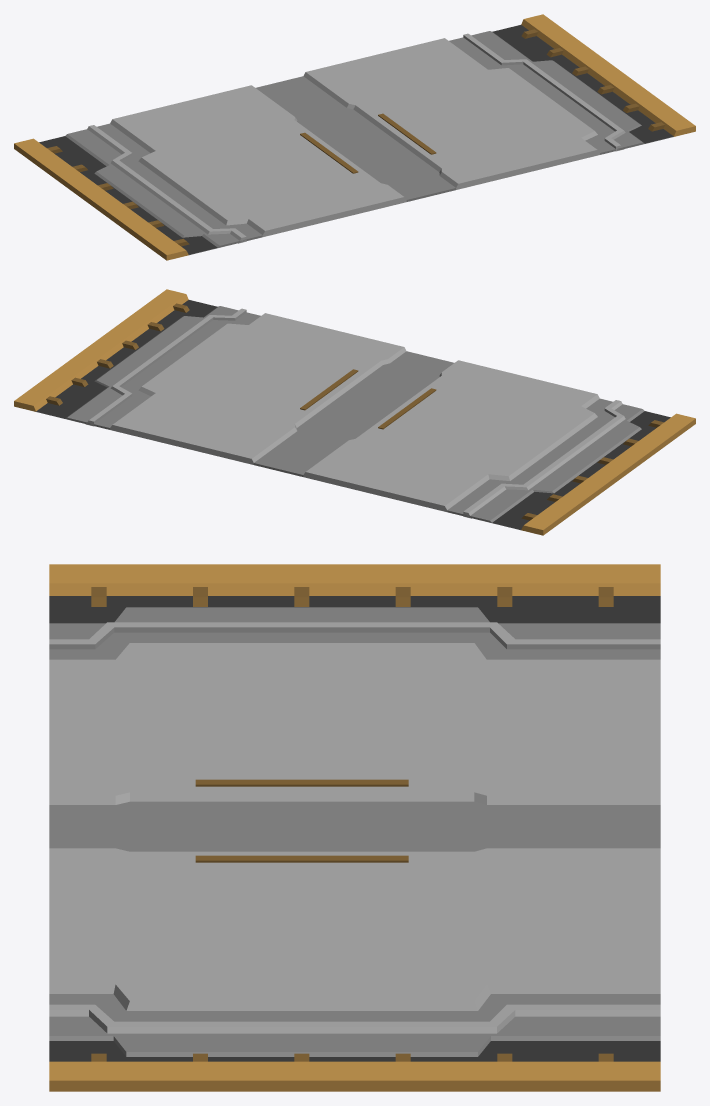
The model's file is FloorTile_Double_Hallway.glb.
3 renders of one model, top to bottom at view 1: azimuth 30°, elevation 25°; view 2: azimuth 150°, elevation 25°; view 3: azimuth 270°, elevation 25°, orthographic. The views are drawn at different scales.
Parts seen in each view (by area): view 1: FloorTile_Double; view 2: FloorTile_Double; view 3: FloorTile_Double.
Part boxes in pixels (<box>): FloorTile_Double: <box>14,14,695,260</box>; FloorTile_Double: <box>14,289,695,535</box>; FloorTile_Double: <box>49,564,660,1091</box>.
Bounding box in the file's own units: 4 × 0.0685 × 2.
